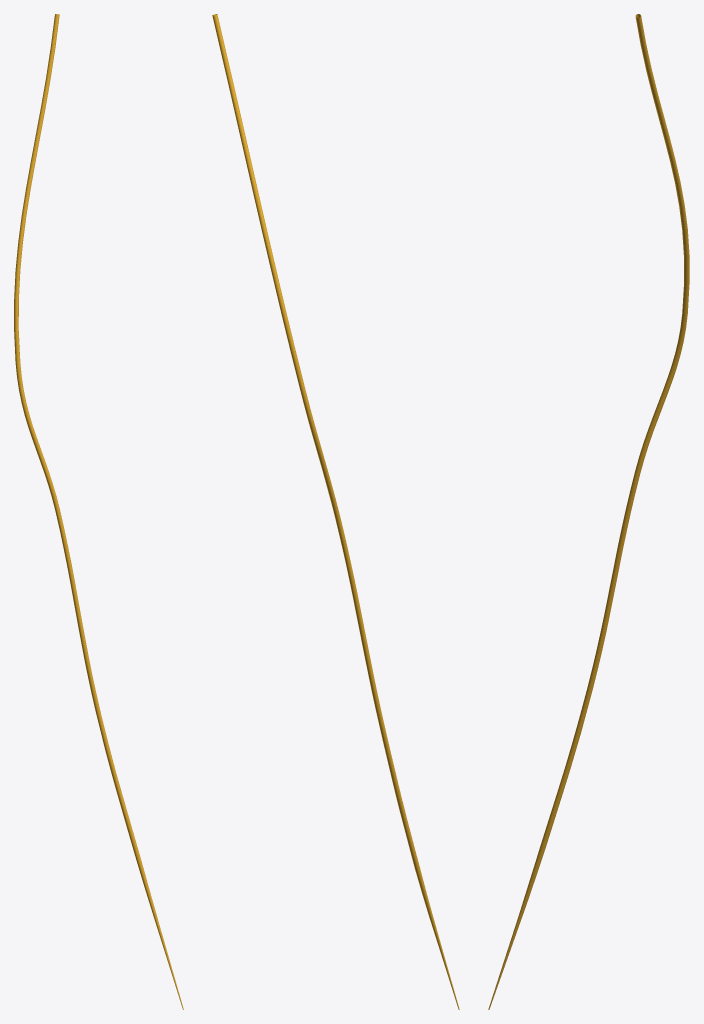
Rendered from nervoso-anterior-interosseous-nerve-of-forearm-r.glb.
3 views of the same model, side by side, from view 1: azimuth 90°, elevation 25°; view 2: azimuth 150°, elevation 25°; view 3: azimuth 270°, elevation 25° (orthographic). The views are drawn at different scales.
Parts seen in each view (by area): view 1: Anterior interosseous nerve of forearm.r; view 2: Anterior interosseous nerve of forearm.r; view 3: Anterior interosseous nerve of forearm.r.
Boxes of the visible parts, <box> form: Anterior interosseous nerve of forearm.r: <box>14,14,183,1009</box>; Anterior interosseous nerve of forearm.r: <box>212,14,459,1009</box>; Anterior interosseous nerve of forearm.r: <box>488,14,689,1009</box>.
Size of the model in its own units: 0.0389 by 0.2097 by 0.0352.
